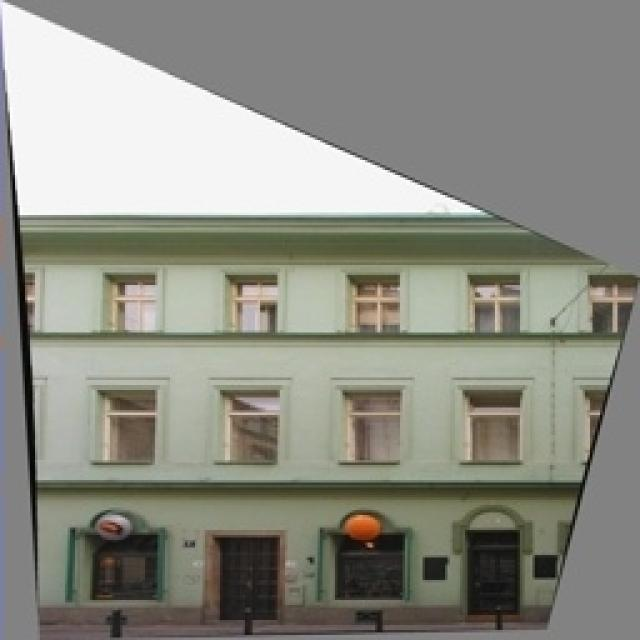Window: (472, 390, 520, 460), (228, 392, 278, 458), (352, 392, 400, 458), (335, 552, 403, 596), (108, 392, 152, 458), (95, 555, 153, 600), (114, 278, 158, 330), (474, 280, 518, 330), (354, 280, 398, 328), (235, 280, 278, 328), (598, 280, 620, 330)
